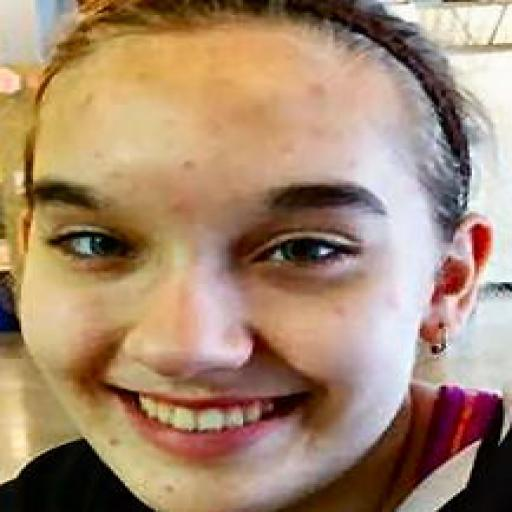Autism: (30, 15, 512, 512)
